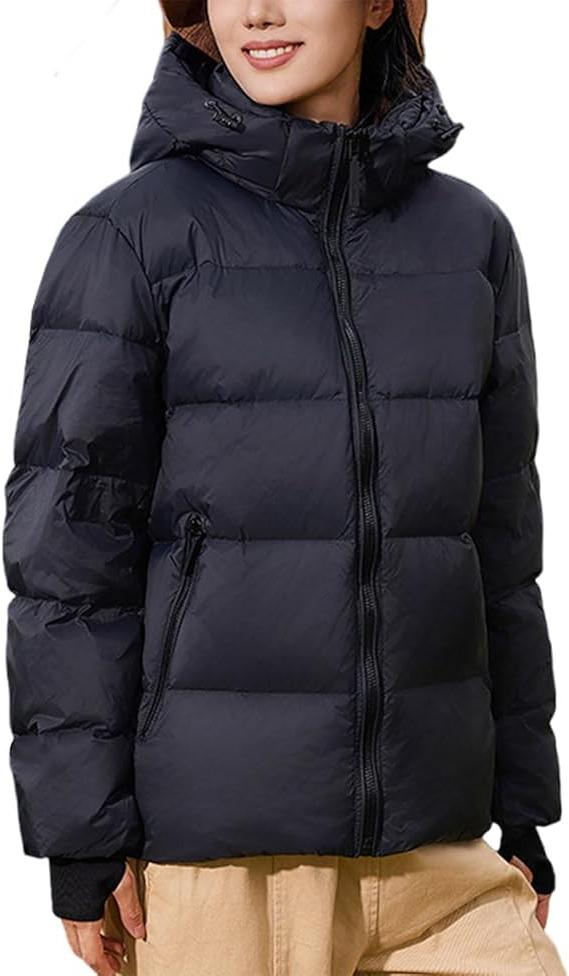coat: (4, 31, 563, 922)
trousers: (101, 827, 567, 976)
